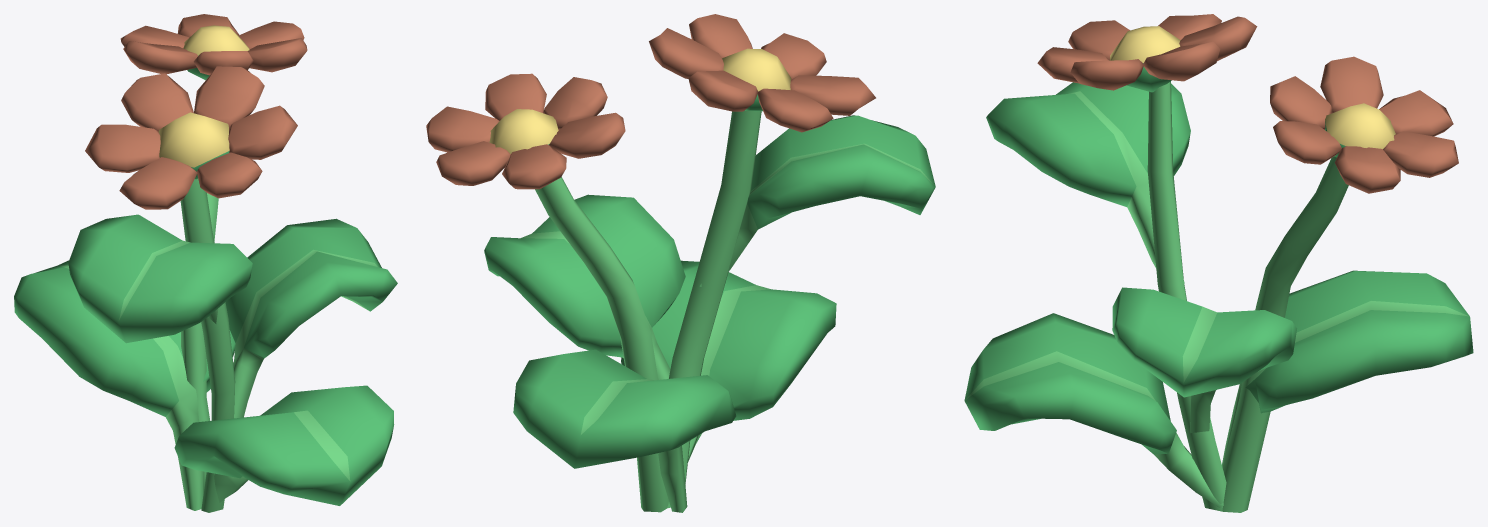
The model's file is Flora_A_02_LOD2.gltf.
3 views of the same model, side by side, from view 1: azimuth 30°, elevation 25°; view 2: azimuth 150°, elevation 25°; view 3: azimuth 270°, elevation 25° (orthographic). The views are drawn at different scales.
Visible parts, largest first — view 1: Flora_A_02_LOD2_Plane.044; view 2: Flora_A_02_LOD2_Plane.044; view 3: Flora_A_02_LOD2_Plane.044.
Part boxes in pixels (<box>): Flora_A_02_LOD2_Plane.044: <box>14,14,397,512</box>; Flora_A_02_LOD2_Plane.044: <box>426,14,935,512</box>; Flora_A_02_LOD2_Plane.044: <box>964,14,1473,512</box>.
Size of the model in its own units: 4.08 by 4.78 by 4.71.
1 material, 1 textured.
